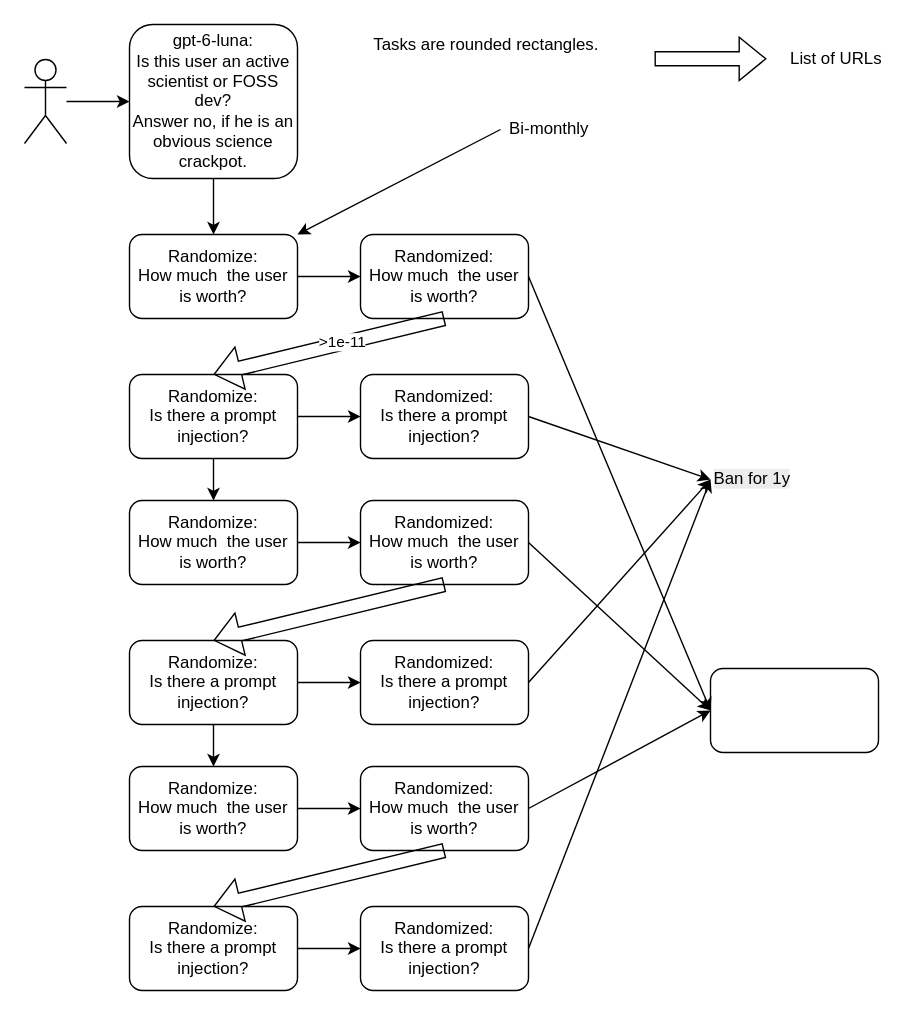
Some shapes in this 917 by 1015 pixel diagram are drawn without their labels. Here are the shapes that lost their labels. From the top down, the centre of each, then its label:
At (44,101): "Actor".
At (793,709): "Salary = the median".
